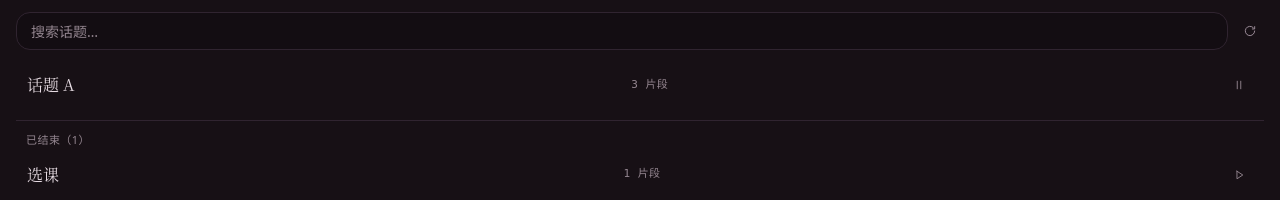
Test: 记忆标签页：话题列表 › 搜索只过滤列表，不改变任何条目（结束/恢复仍可用）
In the field with placeholder "搜索话题…": (622, 31) [16, 12, 1228, 50], type "学期"
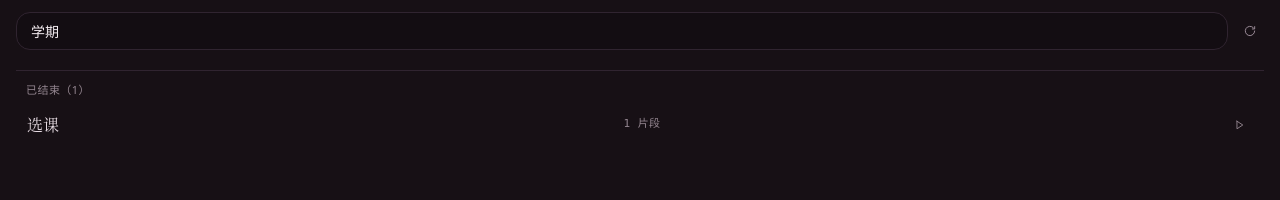
Check: the list with class "ended-list" shows "选课", box [27, 113, 59, 136]
Check: the option with class "topic-list" no longer shows "话题 A"
